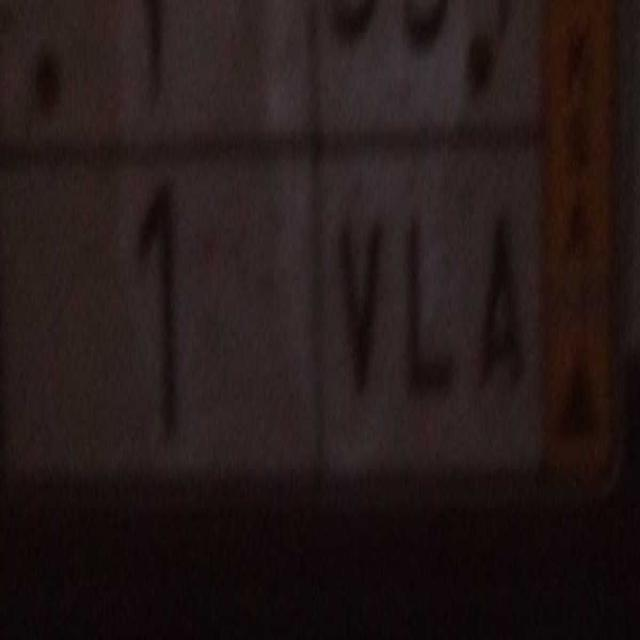license_plate: (0, 120, 547, 503), (129, 155, 195, 468)
